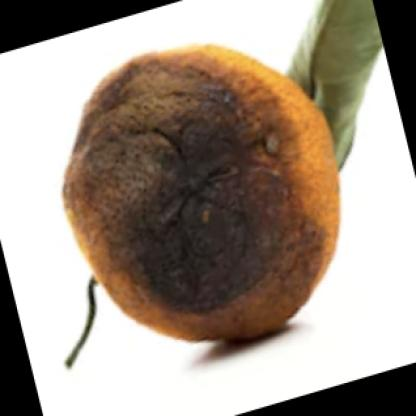rotten: (68, 46, 341, 341)
